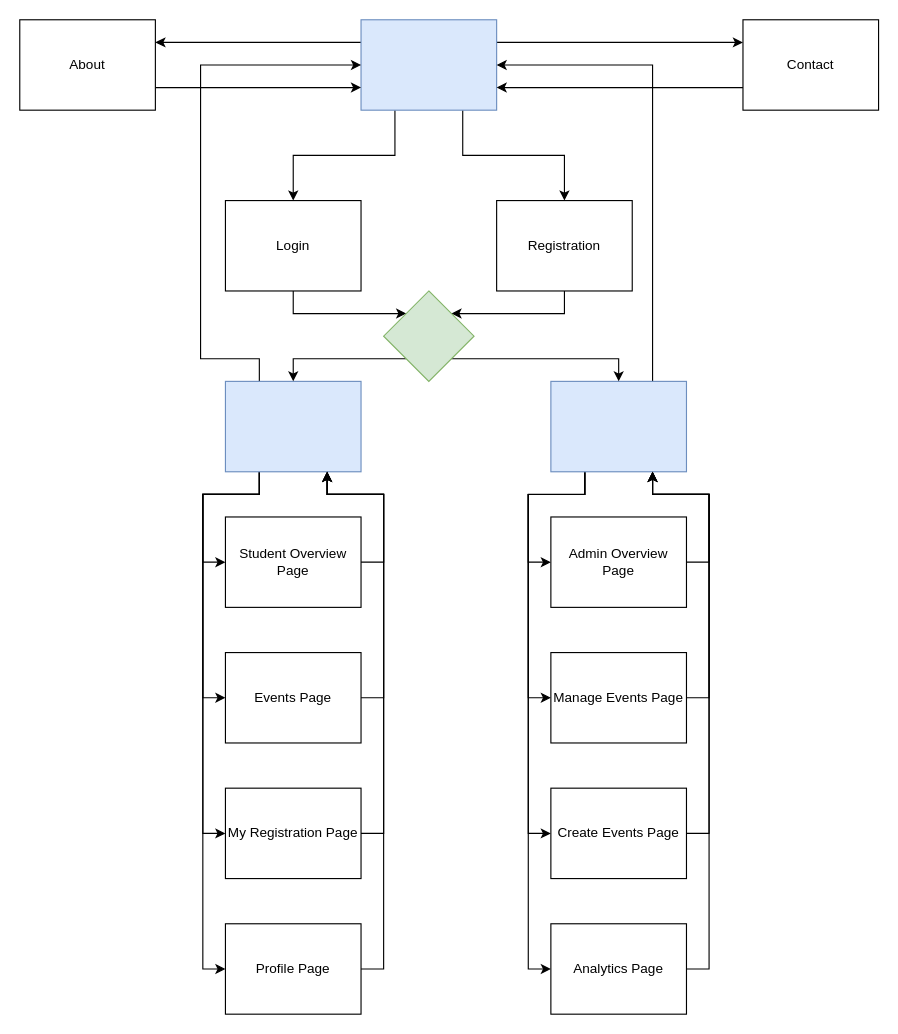
Image size: 898x1034. Some labels were removed from this diagram. The centre of each missing label's shape, as x and y in pixels:
Admin Dashboard: [618,426]
Home: [428,64]
Student Dashboard: [292,426]
Validation: [428,335]
